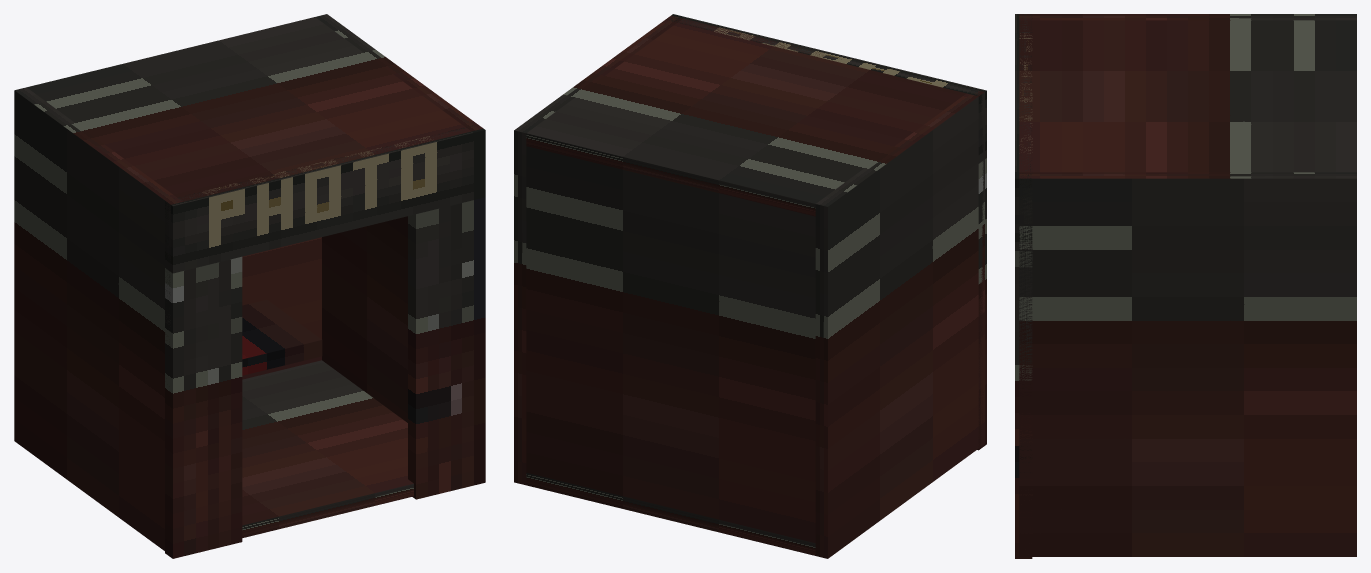
The model's file is photobooth.glb.
3 views of the same model, side by side, from view 1: azimuth 30°, elevation 25°; view 2: azimuth 150°, elevation 25°; view 3: azimuth 270°, elevation 25° (orthographic). The views are drawn at different scales.
Visible parts, largest first — view 1: Booth_And_Seat; view 2: Booth_And_Seat; view 3: Booth_And_Seat.
Part boxes in pixels (x1=…): Booth_And_Seat: x1=14, y1=14, x2=485, y2=558; Booth_And_Seat: x1=514, y1=14, x2=986, y2=558; Booth_And_Seat: x1=1015, y1=14, x2=1356, y2=558.
Size of what is drawn, in the model's own units: 1.8 by 1.94 by 1.58.
Materials: 1 (1 with a texture image).
